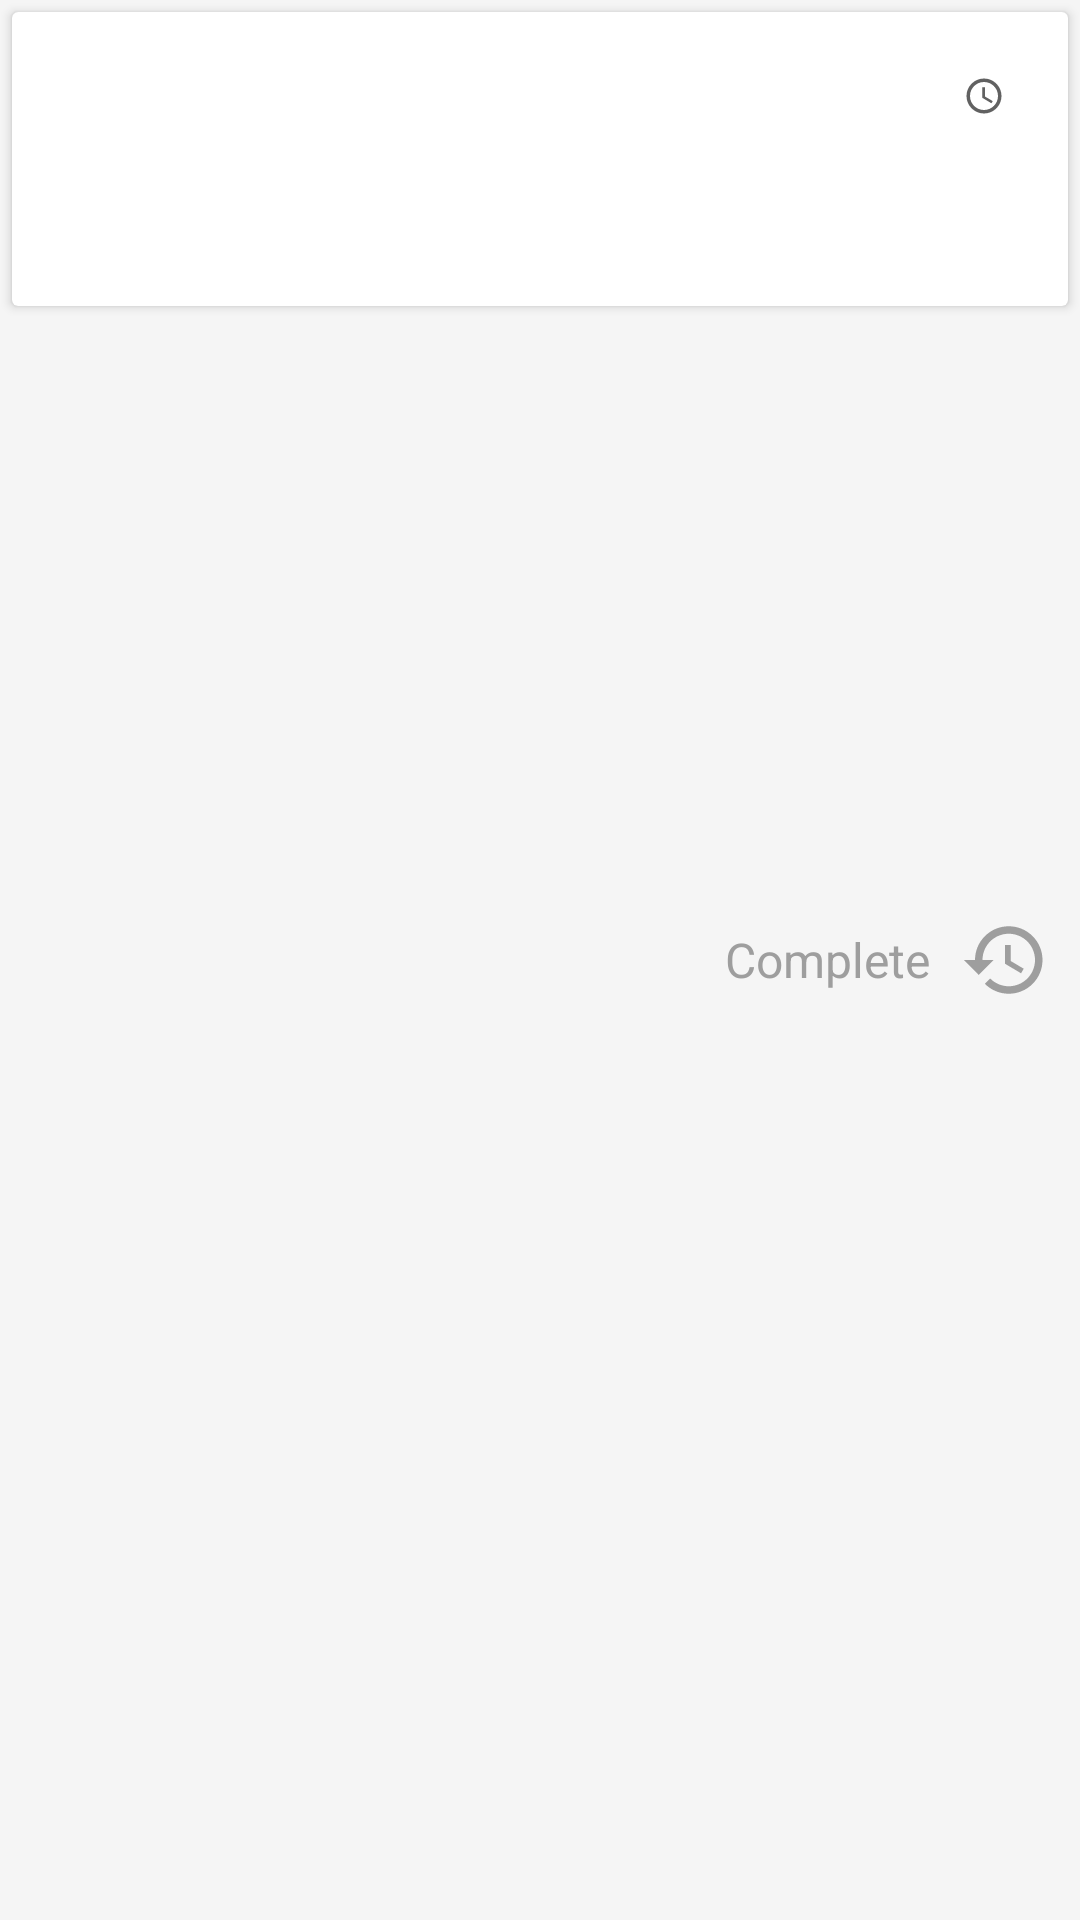

Icon bounding boxes for this 1080x1920 phone screenshot, format (x1, y1, x2, y2):
history: (964, 926, 1043, 994)
time: (966, 78, 1002, 114)
